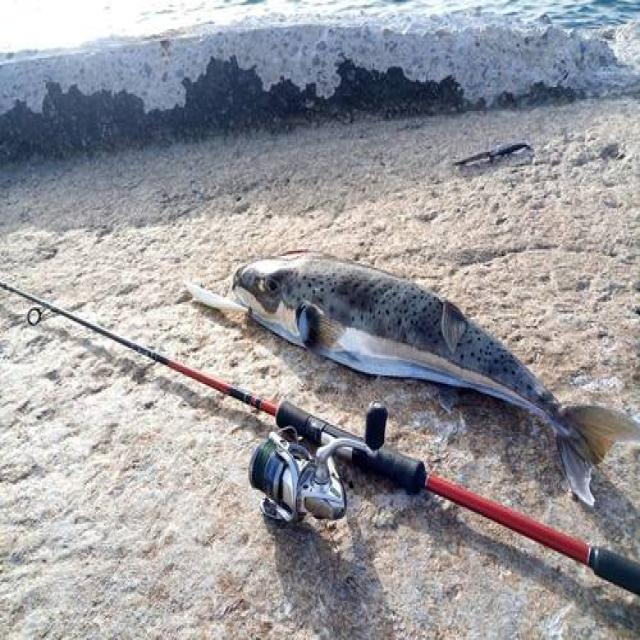Balik: (233, 253, 639, 505)
